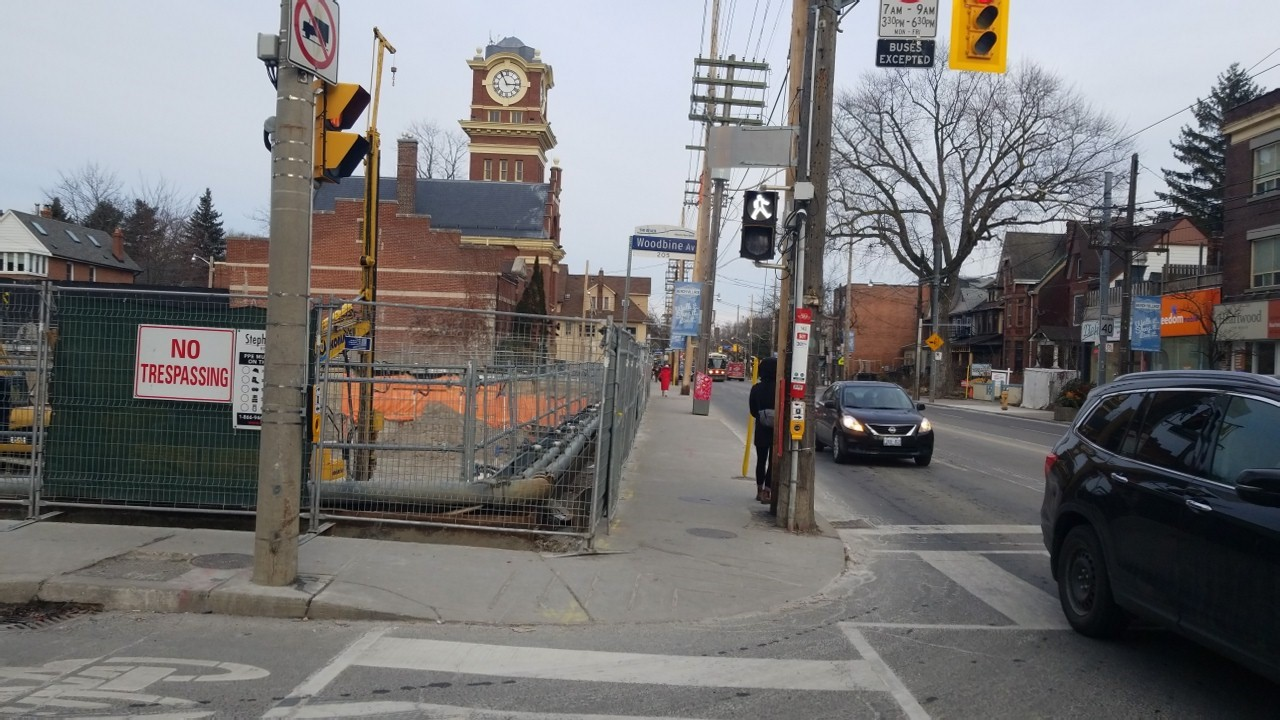light: (737, 183, 782, 264)
